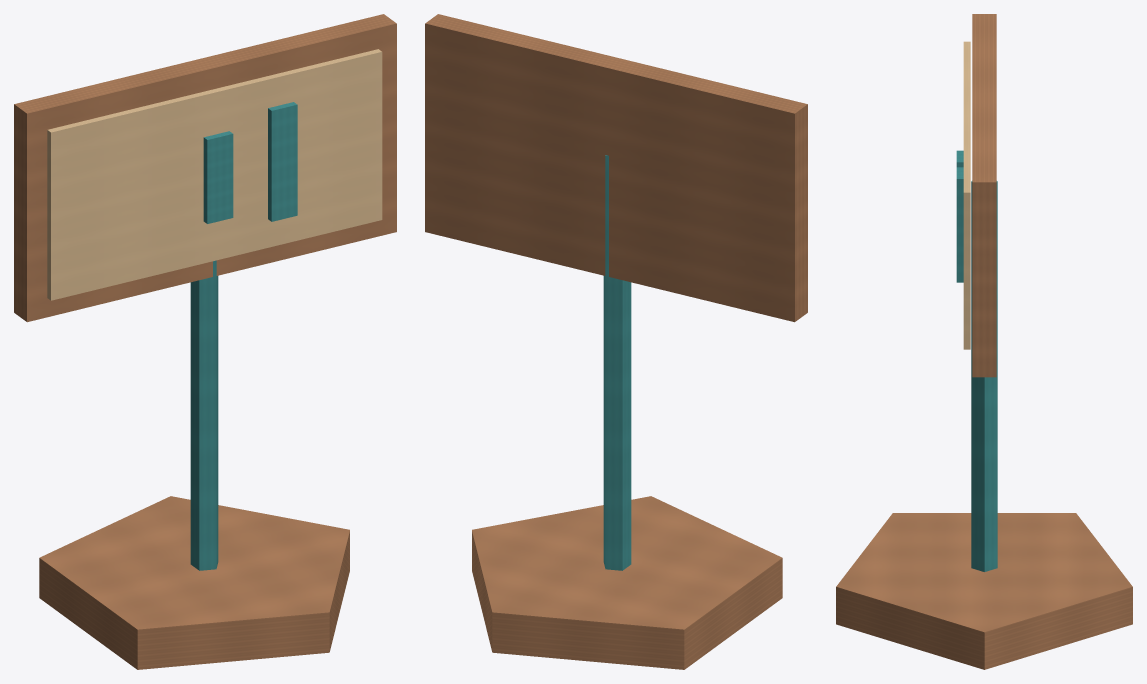
The model's file is atlas100-s093-a11.lod1.glb.
The picture shows the model from 3 angles, left to right: view 1: azimuth 30°, elevation 25°; view 2: azimuth 150°, elevation 25°; view 3: azimuth 270°, elevation 25°; orthographic projection. The views are drawn at different scales.
Parts seen in each view (by area): view 1: atlas100-s093-a11:part-003, atlas100-s093-a11:part-000, atlas100-s093-a11:part-002, atlas100-s093-a11:part-001, atlas100-s093-a11:part-006, atlas100-s093-a11:part-005; view 2: atlas100-s093-a11:part-002, atlas100-s093-a11:part-000, atlas100-s093-a11:part-001; view 3: atlas100-s093-a11:part-000, atlas100-s093-a11:part-002, atlas100-s093-a11:part-001, atlas100-s093-a11:part-003, atlas100-s093-a11:part-006.
Boxes of the visible parts, bbox=[...] form: atlas100-s093-a11:part-003: bbox=[47, 49, 382, 300]; atlas100-s093-a11:part-000: bbox=[39, 496, 349, 669]; atlas100-s093-a11:part-002: bbox=[14, 14, 396, 322]; atlas100-s093-a11:part-001: bbox=[190, 260, 218, 570]; atlas100-s093-a11:part-006: bbox=[268, 102, 297, 221]; atlas100-s093-a11:part-005: bbox=[203, 131, 233, 223]; atlas100-s093-a11:part-002: bbox=[425, 14, 807, 322]; atlas100-s093-a11:part-000: bbox=[472, 496, 782, 669]; atlas100-s093-a11:part-001: bbox=[603, 155, 631, 570]; atlas100-s093-a11:part-000: bbox=[836, 513, 1132, 669]; atlas100-s093-a11:part-002: bbox=[972, 14, 996, 377]; atlas100-s093-a11:part-001: bbox=[971, 181, 997, 571]; atlas100-s093-a11:part-003: bbox=[963, 41, 970, 349]; atlas100-s093-a11:part-006: bbox=[956, 167, 963, 282].
Size of the model in its own units: 1.15 by 1.61 by 0.856.
Materials: 3 (3 with a texture image).
